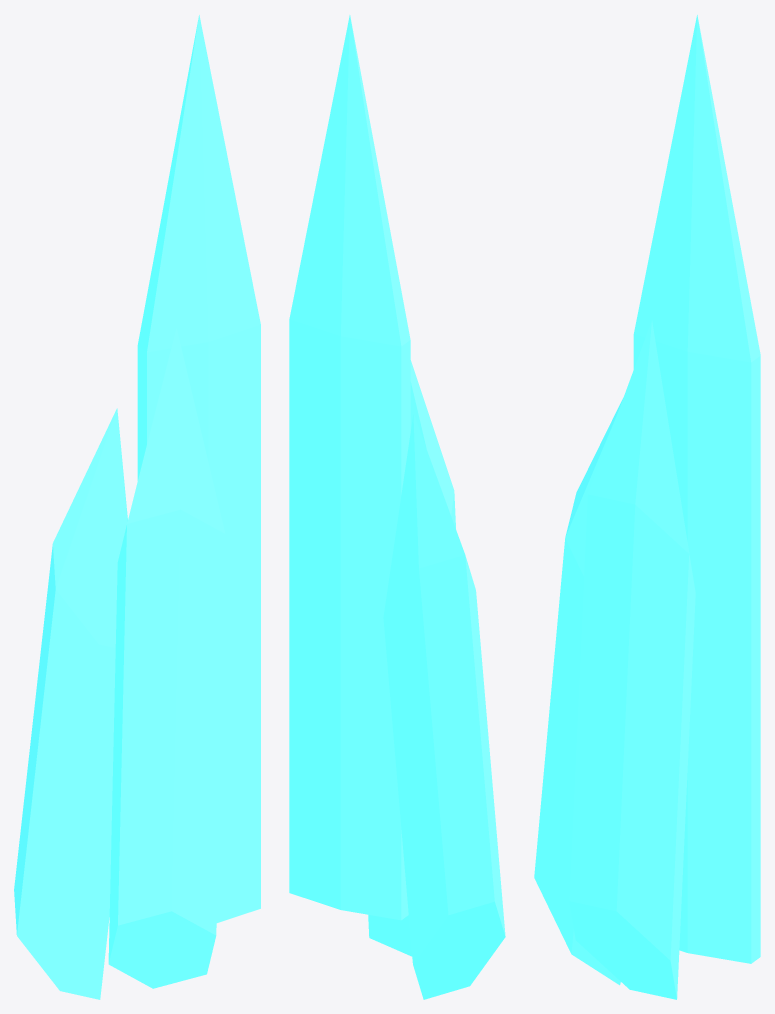
The model's file is cryst6.glb.
The picture shows the model from 3 angles, left to right: view 1: azimuth 30°, elevation 25°; view 2: azimuth 150°, elevation 25°; view 3: azimuth 330°, elevation 25°; orthographic projection. The views are drawn at different scales.
Visible parts, largest first — view 1: shard; view 2: shard; view 3: shard.
Part boxes in pixels (x1,y1,x2,y2): shard: (14,15,260,999); shard: (289,15,505,999); shard: (534,15,760,999).
Size of the model in its own units: 2.2 by 9 by 0.8.
